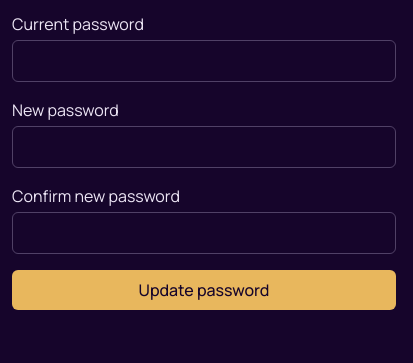
a successful change re-verifies the current password, updates it, then confirms and clears the form
Type "Sup3r$ecret1" into the password field labelled "Current password".
click(204, 61); type("Sup3r$ecret1")  # box x1=12 y1=40 x2=396 y2=82
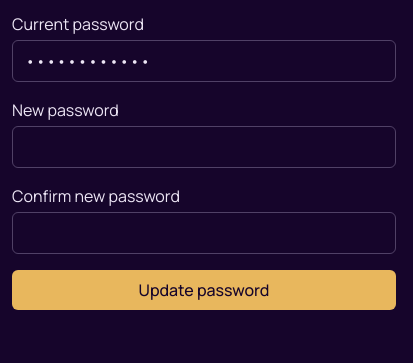
Type "Br4nd$New2" into the password field labelled "New password".
click(204, 147); type("Br4nd$New2")  # box x1=12 y1=126 x2=396 y2=168
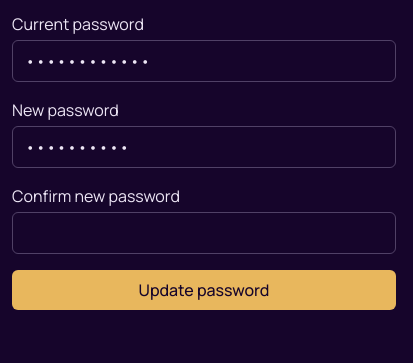
Type "Br4nd$New2" into the password field labelled "Confirm new password".
click(204, 233); type("Br4nd$New2")  # box x1=12 y1=212 x2=396 y2=254
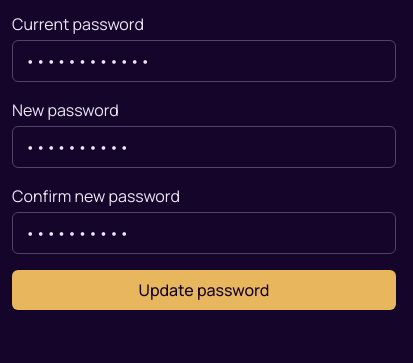
Click the button "Update password".
click(204, 290)  # box x1=12 y1=270 x2=396 y2=310
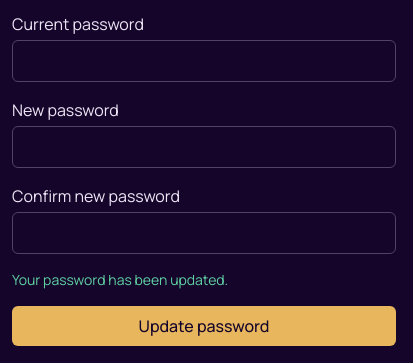
Check: the text "Your password has been updated." is shown, box x1=12 y1=270 x2=228 y2=289
Check: the password field labelled "Current password" is empty, box x1=12 y1=40 x2=396 y2=82
Check: the password field labelled "New password" is empty, box x1=12 y1=126 x2=396 y2=168
